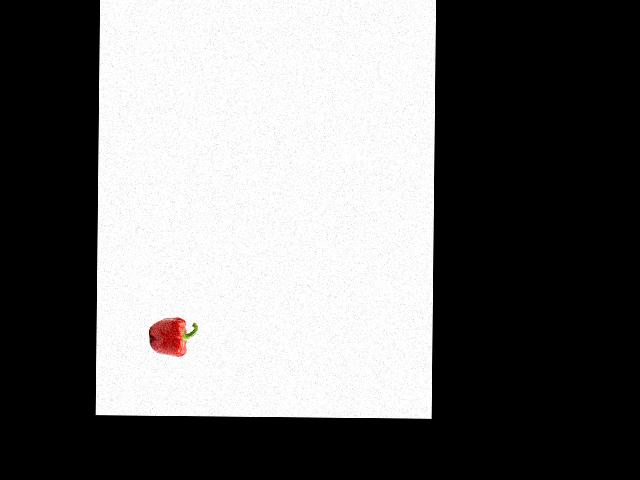bell_pepper: (146, 314, 199, 359)
